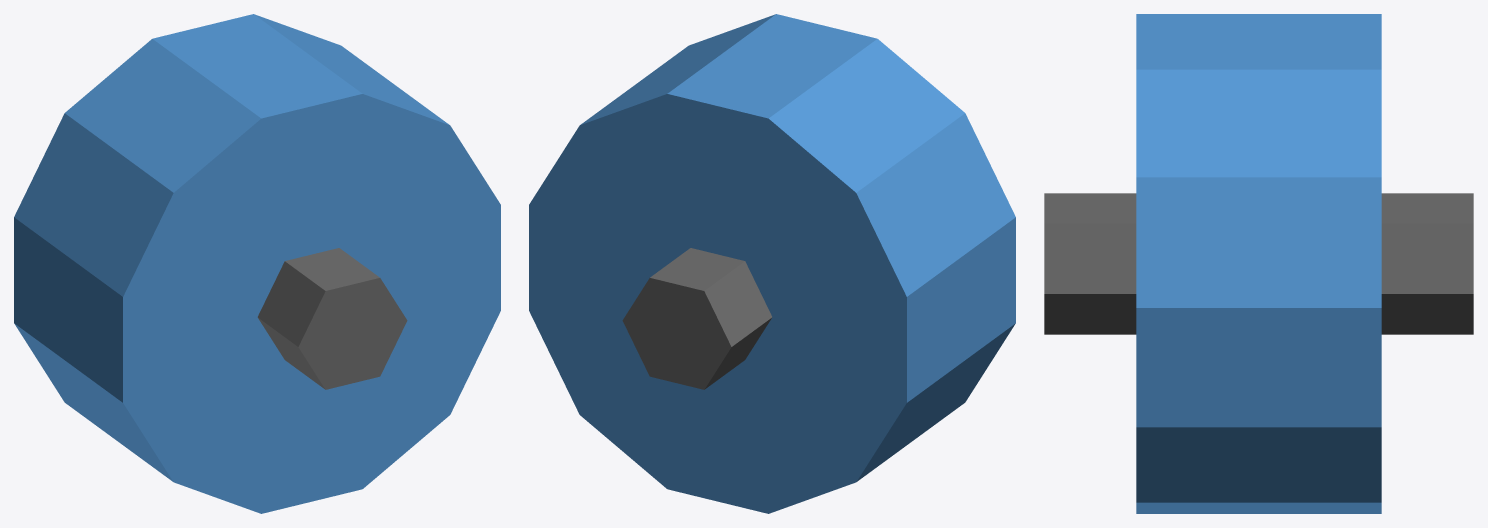
The model's file is ground-intake-middle-right-roller.glb.
The picture shows the model from 3 angles, left to right: view 1: azimuth 30°, elevation 25°; view 2: azimuth 150°, elevation 25°; view 3: azimuth 270°, elevation 25°; orthographic projection. The views are drawn at different scales.
Parts seen in each view (by area): view 1: mesh7, mesh12, mesh11, mesh13, mesh10, mesh3, mesh14, mesh9, mesh2, mesh1, mesh4; view 2: mesh20, mesh12, mesh11, mesh13, mesh10, mesh22, mesh14, mesh9, mesh25, mesh26, mesh24; view 3: mesh8, mesh19, mesh9, mesh18, mesh10, mesh0, mesh27, mesh21, mesh6, mesh17, mesh1, mesh26.
Part boxes in pixels (<box>): mesh7: <box>123,94,500,513</box>; mesh12: <box>14,113,173,296</box>; mesh11: <box>65,39,260,192</box>; mesh13: <box>14,217,122,402</box>; mesh10: <box>153,14,362,118</box>; mesh3: <box>298,278,407,389</box>; mesh14: <box>14,323,172,481</box>; mesh9: <box>254,14,449,124</box>; mesh2: <box>258,261,325,346</box>; mesh1: <box>285,248,379,290</box>; mesh4: <box>258,318,325,389</box>; mesh20: <box>529,94,906,513</box>; mesh12: <box>856,113,1015,296</box>; mesh11: <box>769,39,964,192</box>; mesh13: <box>907,217,1015,402</box>; mesh10: <box>667,14,876,118</box>; mesh22: <box>622,278,731,389</box>; mesh14: <box>857,323,1015,481</box>; mesh9: <box>580,14,775,124</box>; mesh25: <box>704,261,771,346</box>; mesh26: <box>650,248,744,290</box>; mesh24: <box>704,318,771,389</box>; mesh8: <box>1136,177,1381,307</box>; mesh19: <box>1136,308,1381,427</box>; mesh9: <box>1136,69,1381,177</box>; mesh18: <box>1136,427,1381,502</box>; mesh10: <box>1136,14,1381,69</box>; mesh0: <box>1044,223,1136,293</box>; mesh27: <box>1381,223,1473,293</box>; mesh21: <box>1381,294,1473,334</box>; mesh6: <box>1044,294,1136,334</box>; mesh17: <box>1136,502,1381,513</box>; mesh1: <box>1044,193,1136,223</box>; mesh26: <box>1381,193,1473,223</box>.
Bounding box in the file's own units: 0.0508 × 0.0508 × 0.0444.
